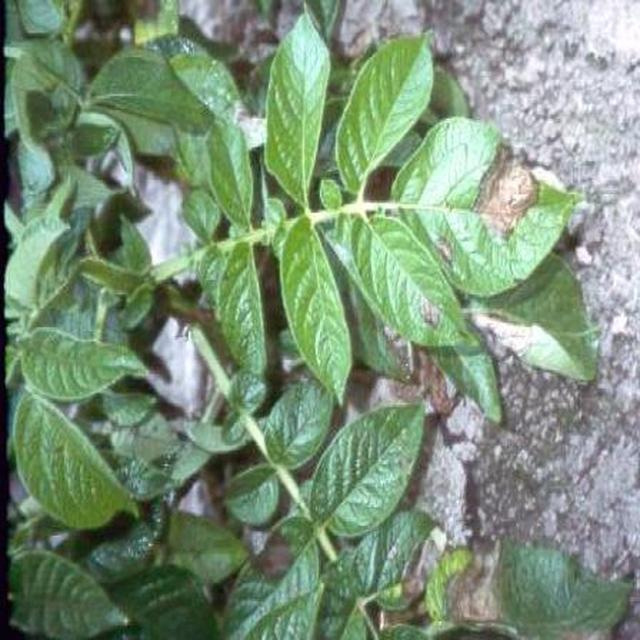Late Blight Leaf: (271, 166, 640, 640)
